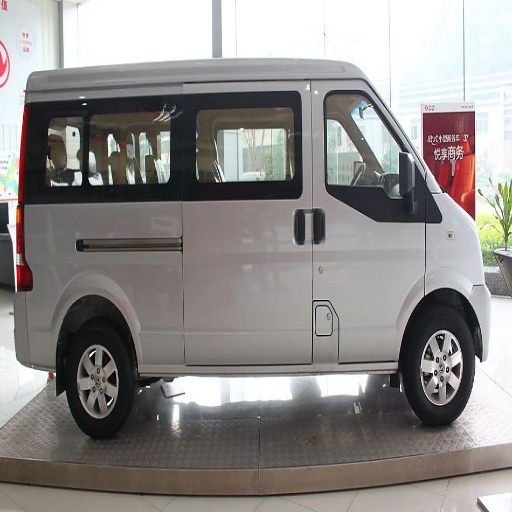back_right_door: (255, 87, 321, 151)
trunk: (212, 194, 420, 355), (28, 206, 191, 368)
